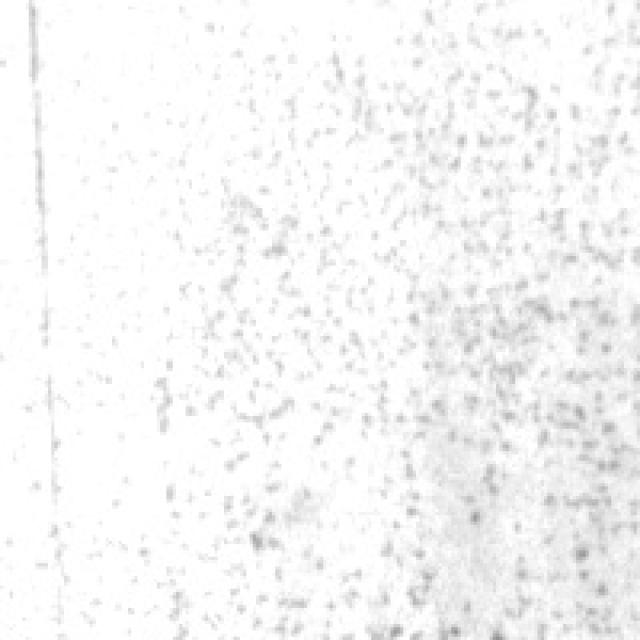pitted_surface: (141, 0, 634, 634)
